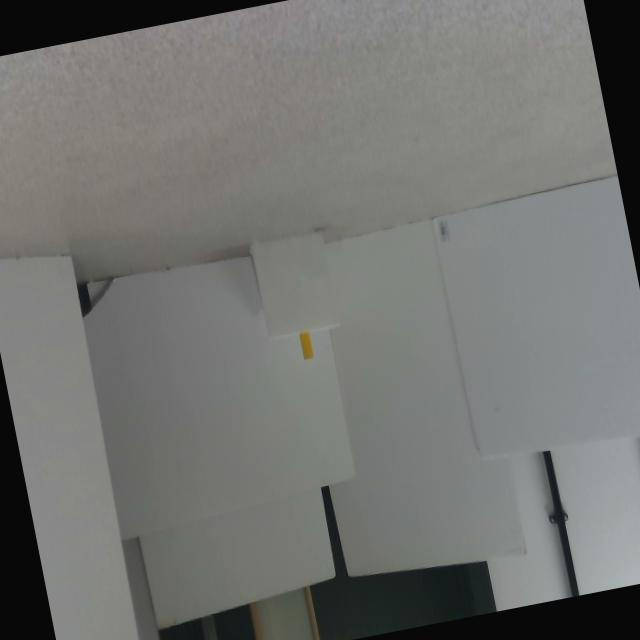yellow_cylinder: (300, 332, 314, 361)
